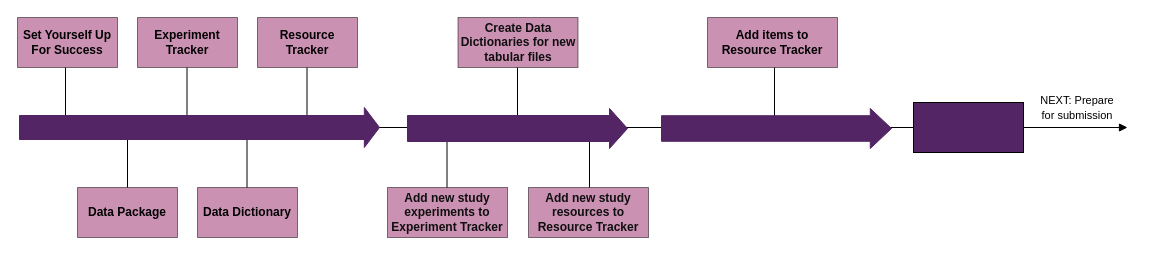
This 1153x255 diagram has some shape labels left out. The box of each missing label's shape, as (x1, y1, x2, y2) in pixels:
After Dataset-of-Interest Finalized: (660, 108, 892, 148)
Finish Preparing Data Package Locally: (912, 102, 1024, 152)
Right Away: (18, 106, 380, 148)
Throughout Your Study: (406, 108, 628, 148)
